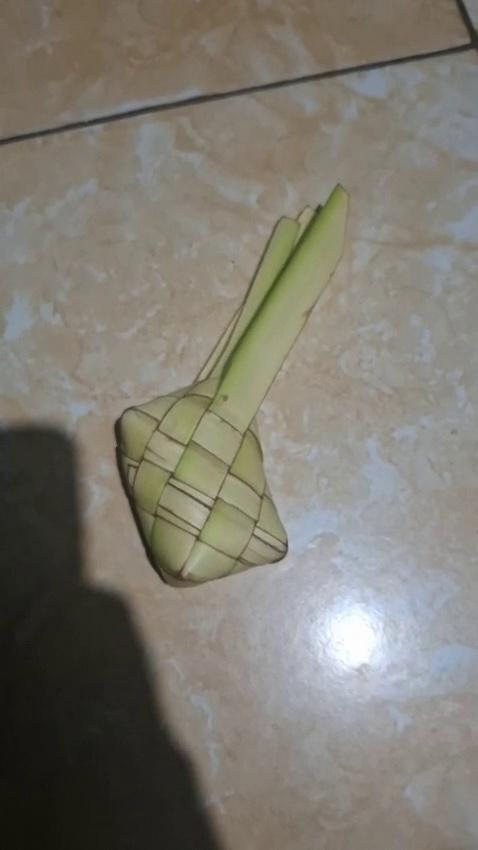Tipat Bantal: (103, 187, 353, 596)
